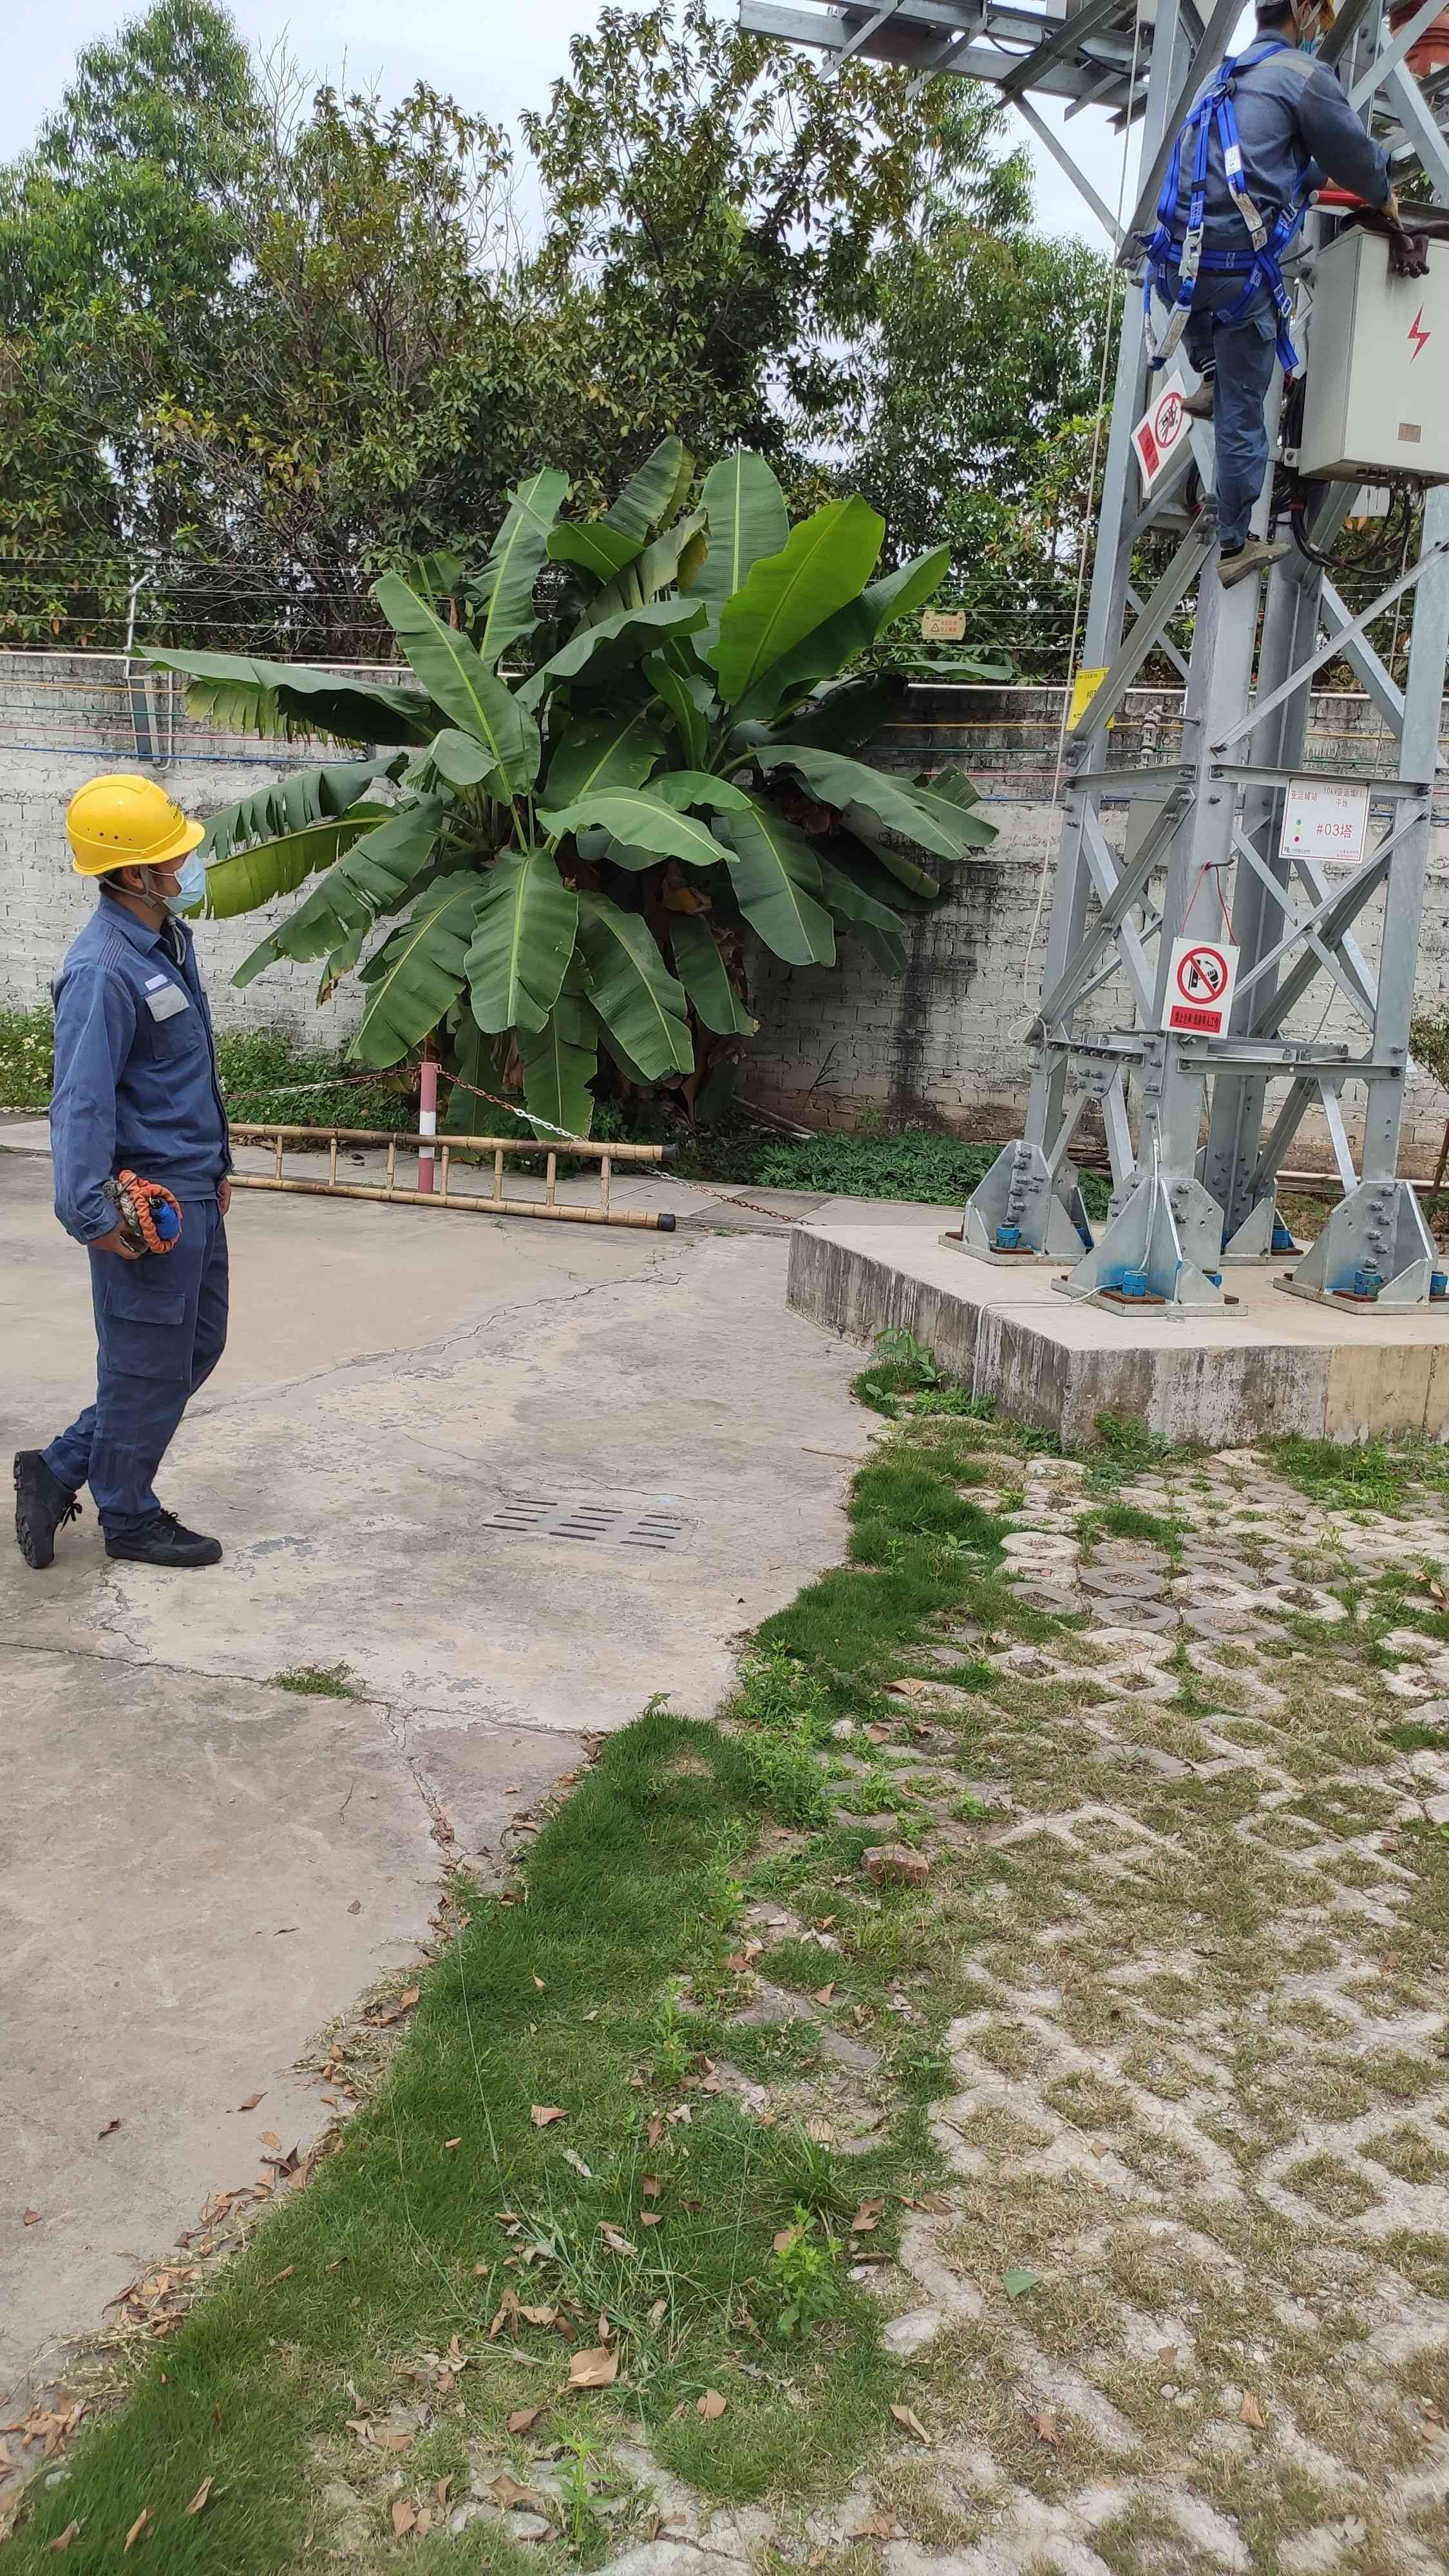downsuit: (69, 1219, 237, 1513), (1162, 276, 1288, 538)
upsuit: (42, 909, 239, 1191), (1154, 37, 1398, 253)
